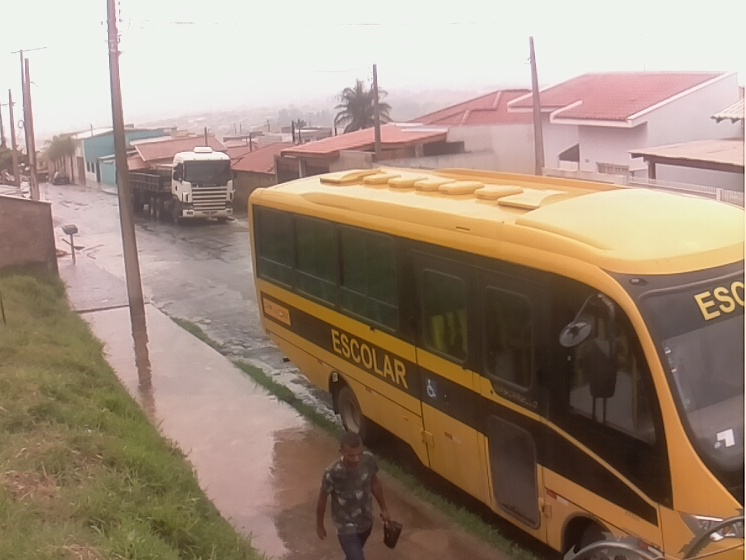person: (313, 429, 393, 560)
